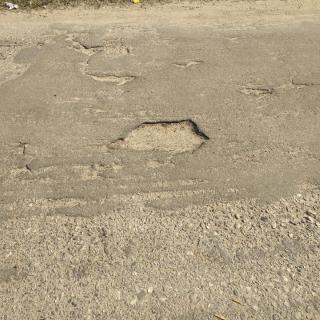pothole: (106, 120, 210, 154)
